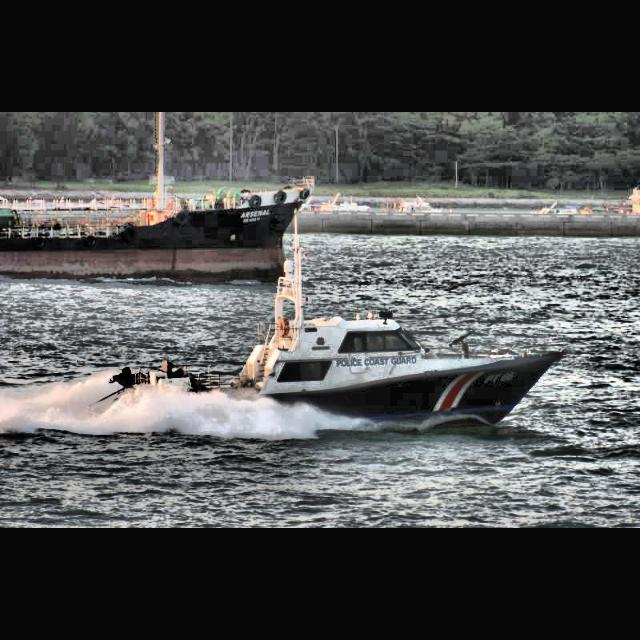patrol_vessel: (78, 308, 568, 434)
